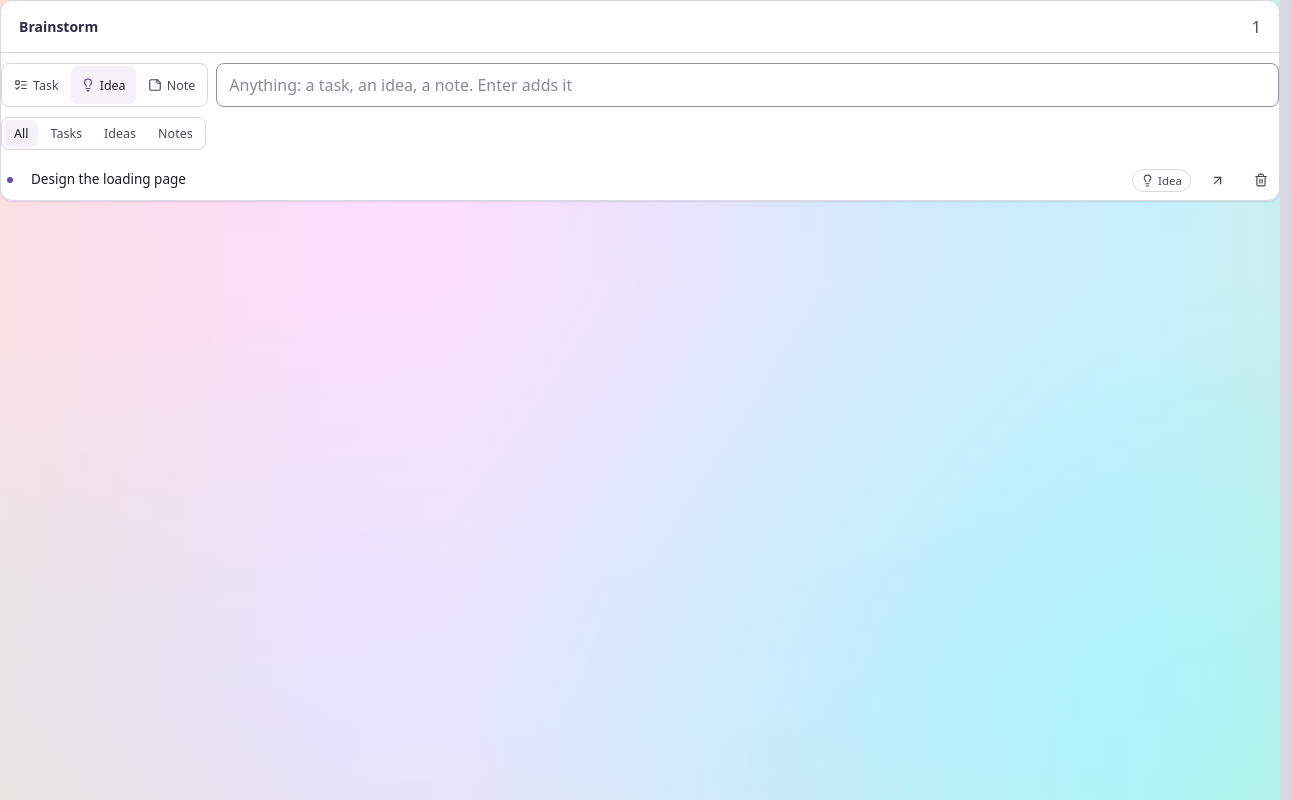
the brainstorm list › moves a line to the board as a card in the first column, in one save
The width and height of the screenshot is (1292, 800).
Click the button named "Move Design the loading page to the board" at (1217, 180), box [1199,162,1235,198]
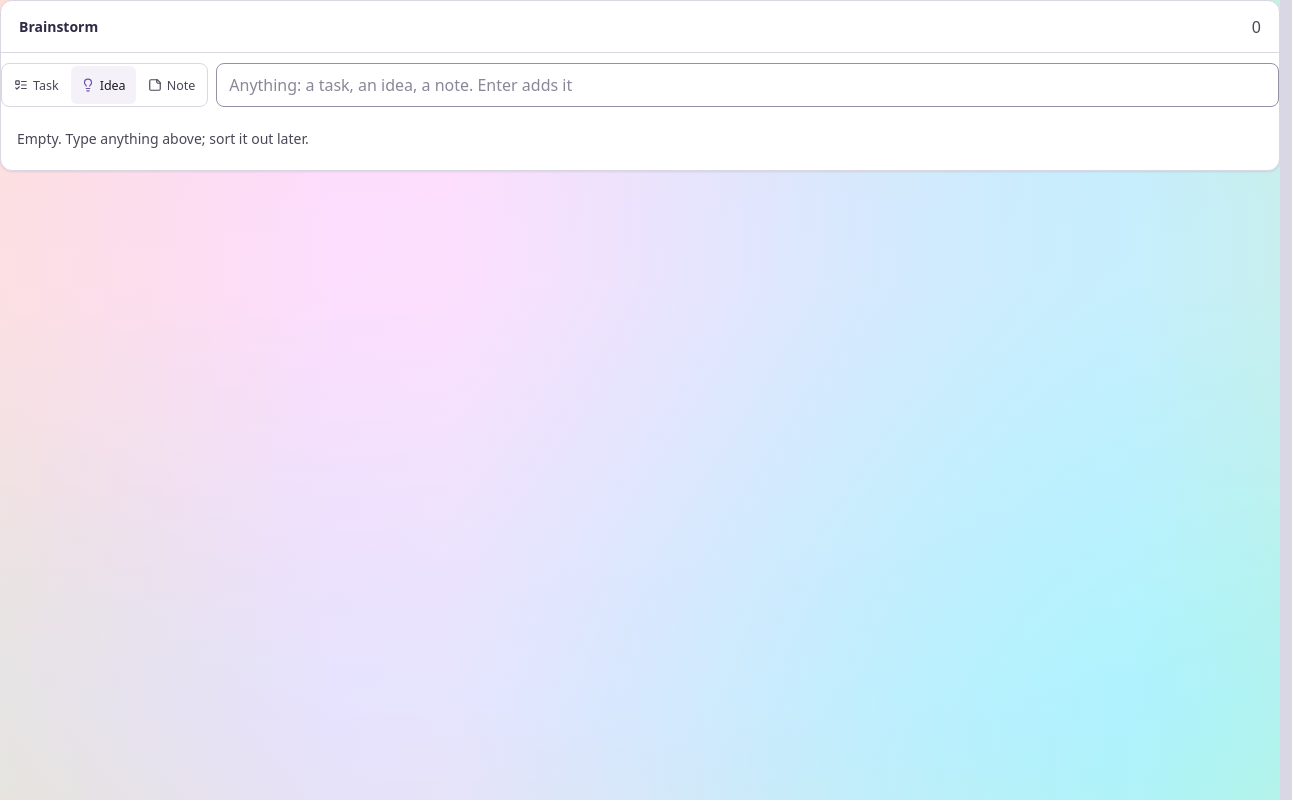
expect the text "Empty. Type anything above; sort it out later." is shown: met, box [17,129,309,148]
